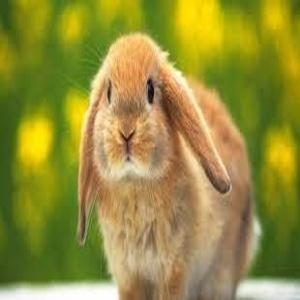rabbit: (77, 34, 252, 299)
